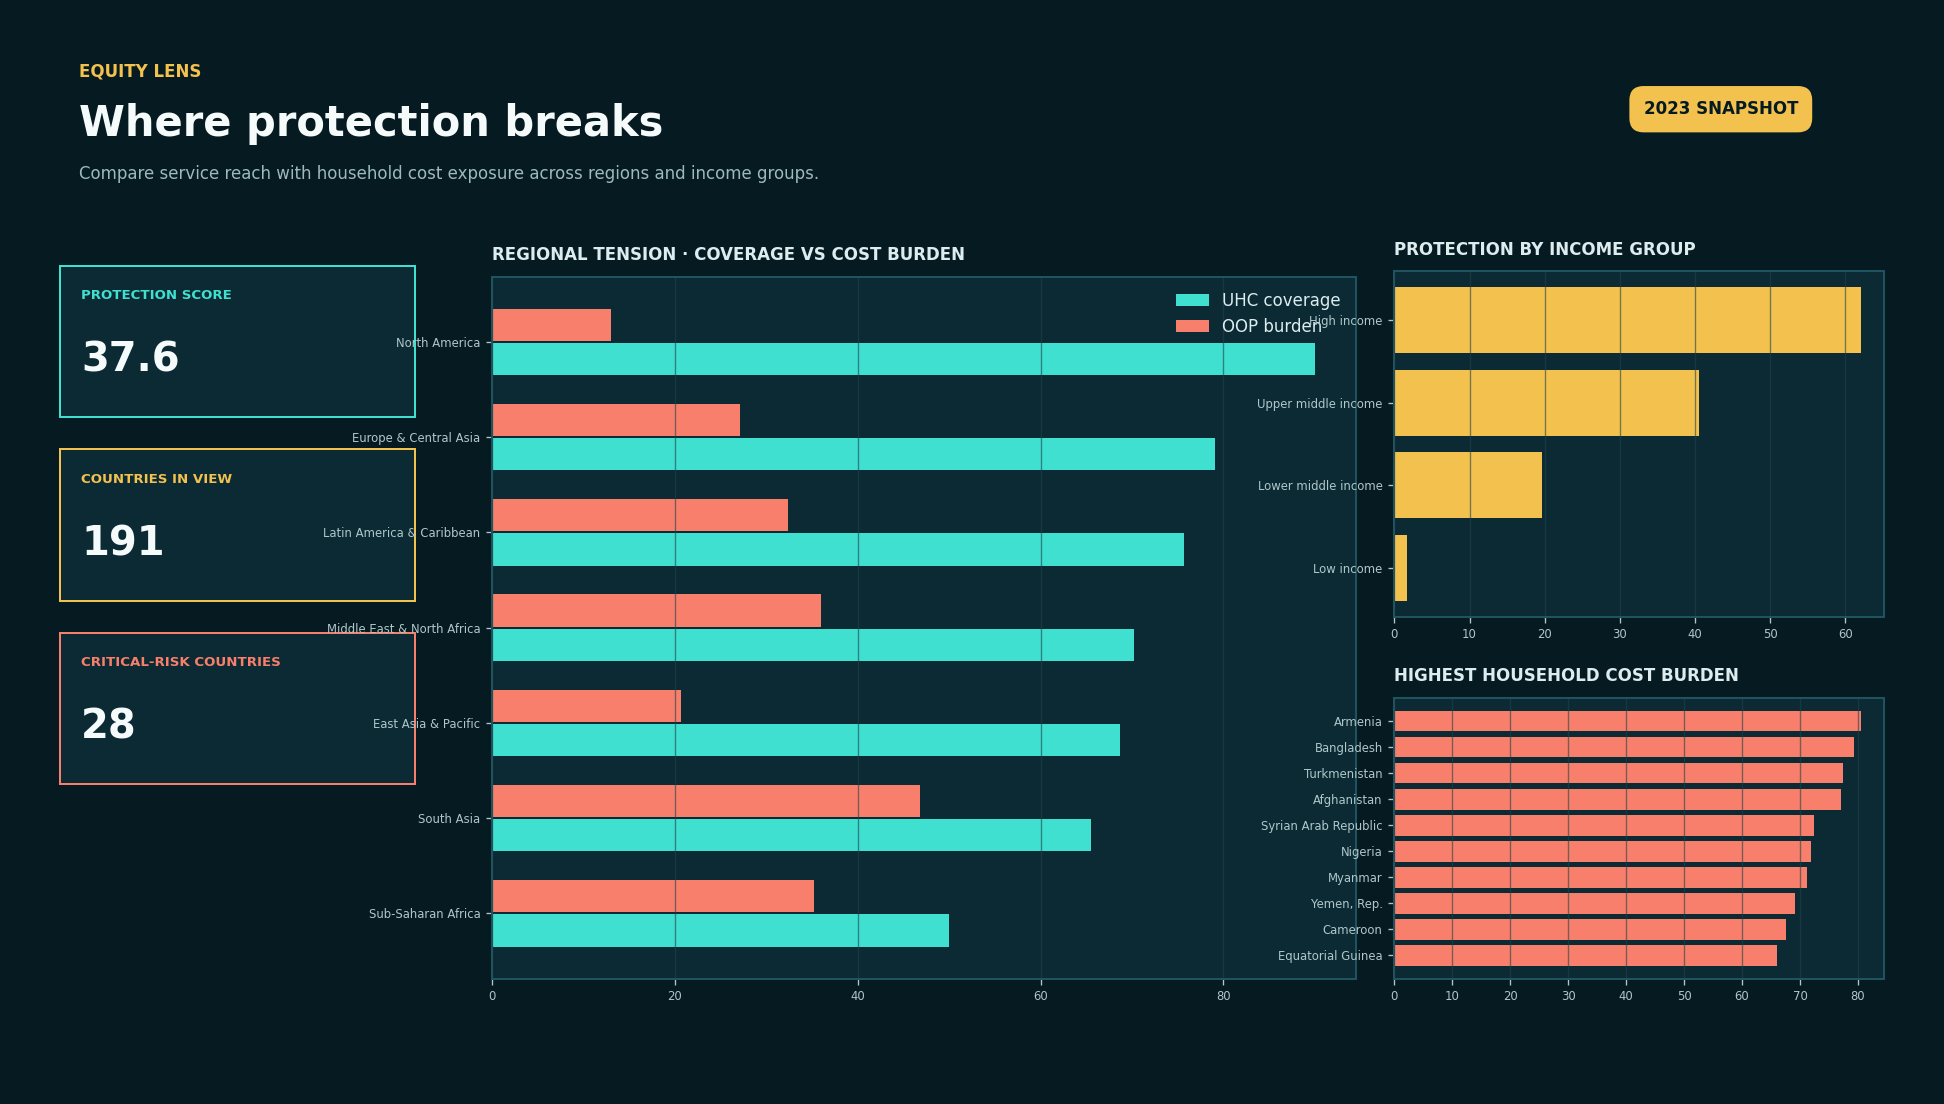

The page's visual inventory and layout, read from the dashboard file:
{"tool":"powerbi","page":{"name":"Regional Comparison","canvas":[1280,720],"ordinal":1},"visuals":[{"type":"textbox","box":[28.3,20.8,139.8,47.2],"z":1000},{"type":"textbox","box":[28.3,43.5,690,62.4],"z":2000},{"type":"textbox","box":[30.2,90.7,690,49.1],"z":3000},{"type":"textbox","box":[1090,28,140,44],"z":4000},{"type":"slicer","fields":{"Values":["HealthAccess.Region"]},"box":[748.4,20.8,160.6,94.5],"z":5000},{"type":"slicer","fields":{"Values":["HealthAccess.IncomeGroup"]},"box":[920.3,20.8,168.2,94.5],"z":6000},{"type":"card","title":"UHC MINUS OOP SHARE","fields":{"Values":["HealthAccess.Latest Protection Score"]},"box":[28,140,280,126],"z":7000},{"type":"card","title":"COUNTRIES IN VIEW","fields":{"Values":["HealthAccess.Countries Tracked"]},"box":[28,282,280,126],"z":8000},{"type":"card","title":"LOWER UHC / HIGHER OOP COUNTRIES","fields":{"Values":["HealthAccess.Critical Countries"]},"box":[28,424,280,126],"z":9000},{"type":"textbox","box":[28,568,280,108],"z":10000},{"type":"clusteredBarChart","title":"REGIONAL UHC VS OOP SPENDING SHARE","fields":{"Category":["HealthAccess.Region"],"Y":["HealthAccess.Latest UHC","HealthAccess.Latest OOP"]},"box":[328,140,578,536],"z":11000},{"type":"clusteredBarChart","title":"UHC–OOP PROFILE BY INCOME GROUP","fields":{"Category":["HealthAccess.IncomeGroup"],"Y":["HealthAccess.Latest Protection Score"]},"box":[926,140,326,252],"z":12000},{"type":"clusteredBarChart","title":"HIGHEST OOP SHARE OF HEALTH SPENDING","fields":{"Category":["HealthAccess.Country"],"Y":["HealthAccess.Latest OOP"]},"box":[926,412,326,264],"z":13000}]}

Visuals, with their boxes in screenshot pixels (x1, y1, x2, y2), scaled from the page's 1280x720 canvas onto the 1944x1104 screenshot:
textbox: region(43, 32, 255, 104)
textbox: region(43, 67, 1091, 162)
textbox: region(46, 139, 1094, 214)
textbox: region(1655, 43, 1868, 110)
slicer - HealthAccess.Region: region(1137, 32, 1381, 177)
slicer - HealthAccess.IncomeGroup: region(1398, 32, 1653, 177)
"UHC MINUS OOP SHARE" card: region(43, 215, 468, 408)
"COUNTRIES IN VIEW" card: region(43, 432, 468, 626)
"LOWER UHC / HIGHER OOP COUNTRIES" card: region(43, 650, 468, 843)
textbox: region(43, 871, 468, 1037)
"REGIONAL UHC VS OOP SPENDING SHARE" clusteredBarChart: region(498, 215, 1376, 1037)
"UHC–OOP PROFILE BY INCOME GROUP" clusteredBarChart: region(1406, 215, 1901, 601)
"HIGHEST OOP SHARE OF HEALTH SPENDING" clusteredBarChart: region(1406, 632, 1901, 1037)
